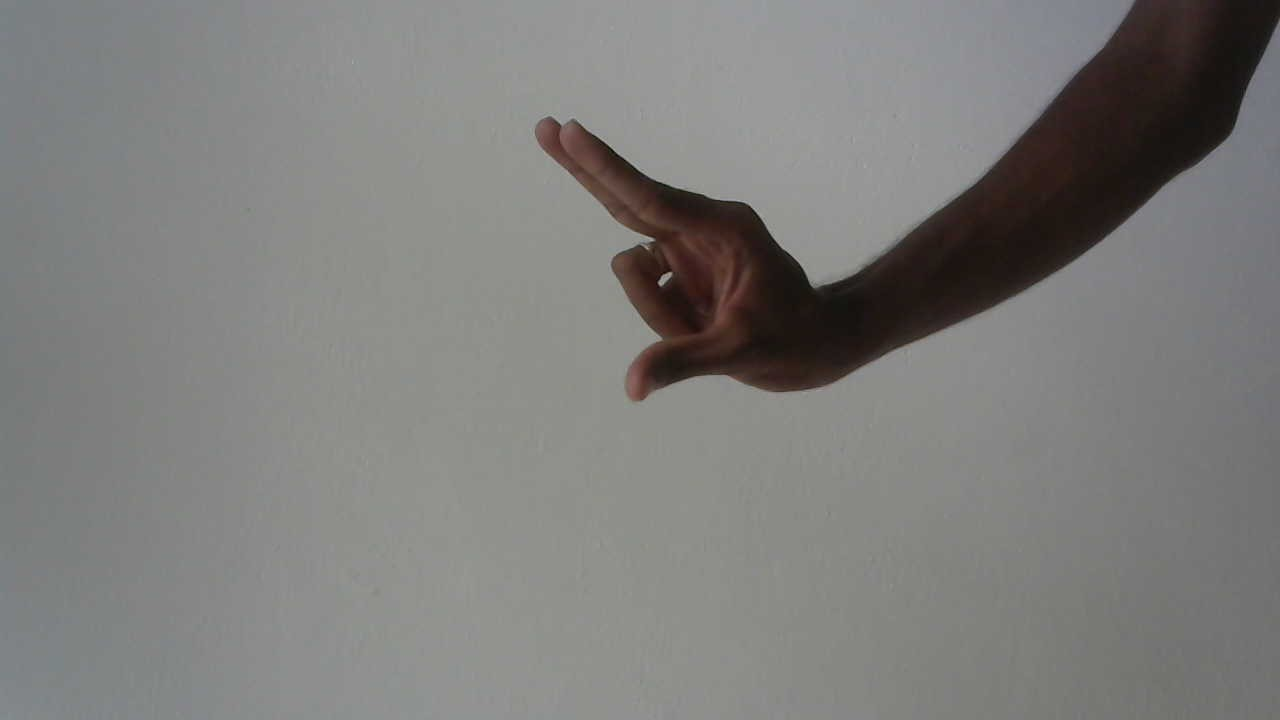no: (524, 100, 856, 426)
